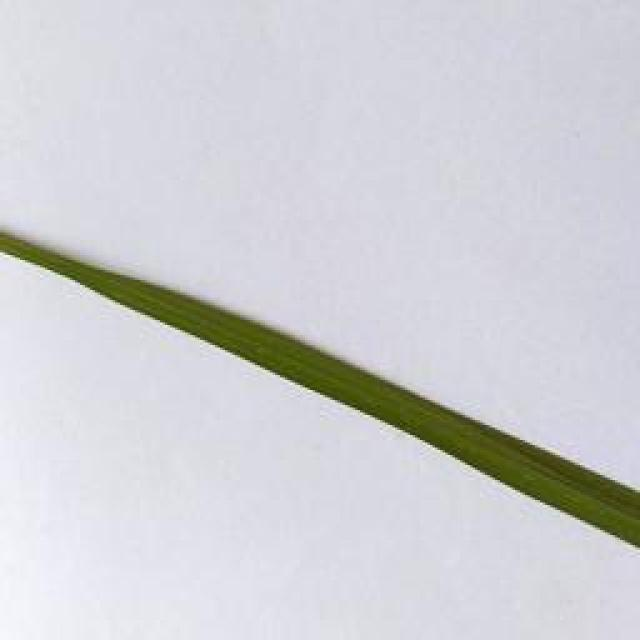Healthy-Plant: (0, 224, 640, 551)
